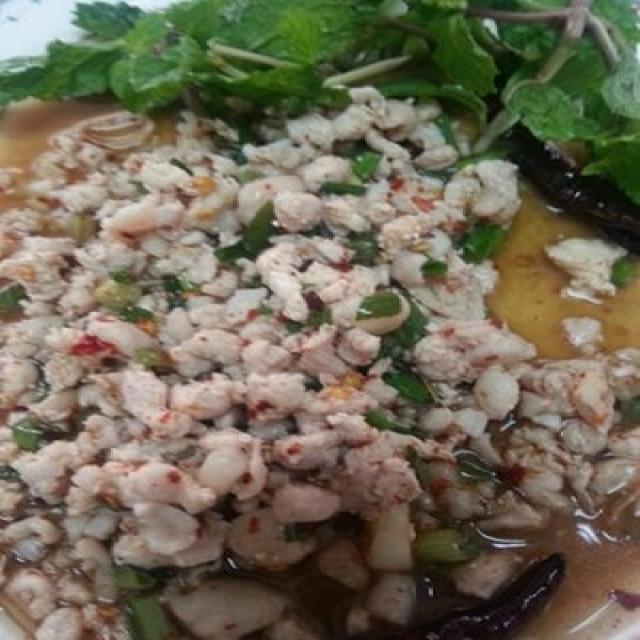鸡肉料理 含炸鸡: (13, 29, 623, 624)
